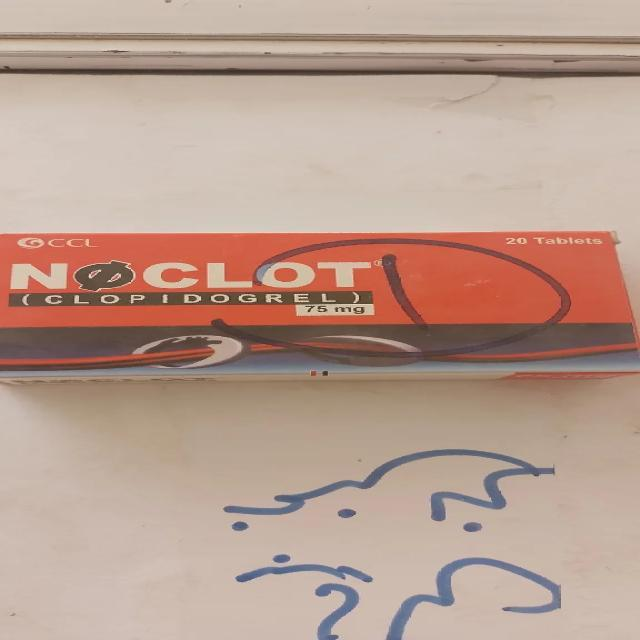drug-name: (6, 256, 376, 291)
